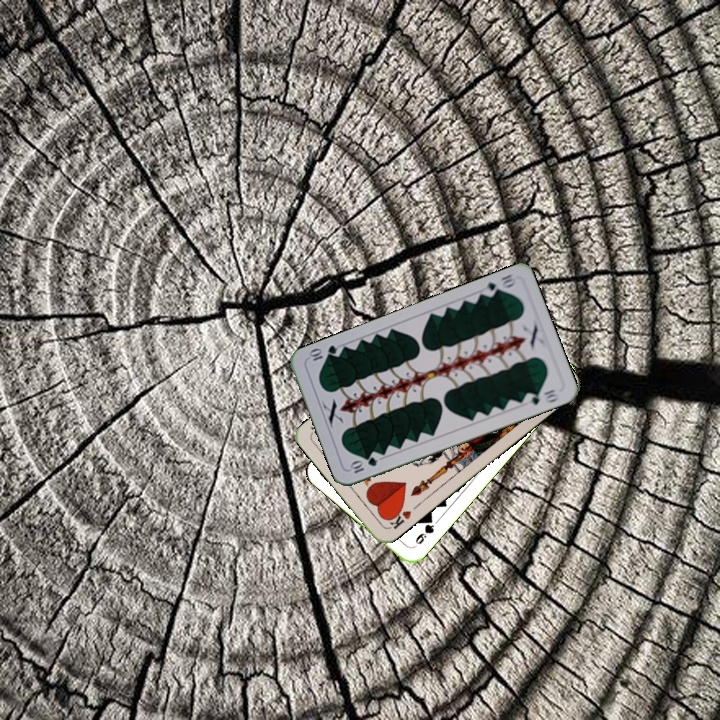G10: (478, 270, 519, 300), (346, 453, 380, 476)
G9: (411, 513, 437, 547)
HK: (383, 504, 414, 532)
